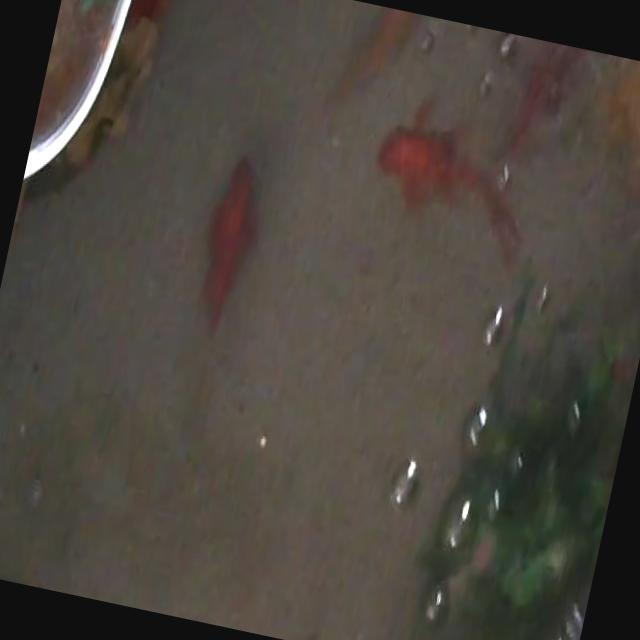fish: (360, 105, 540, 270), (188, 148, 272, 333), (492, 35, 592, 176), (324, 0, 415, 124)
